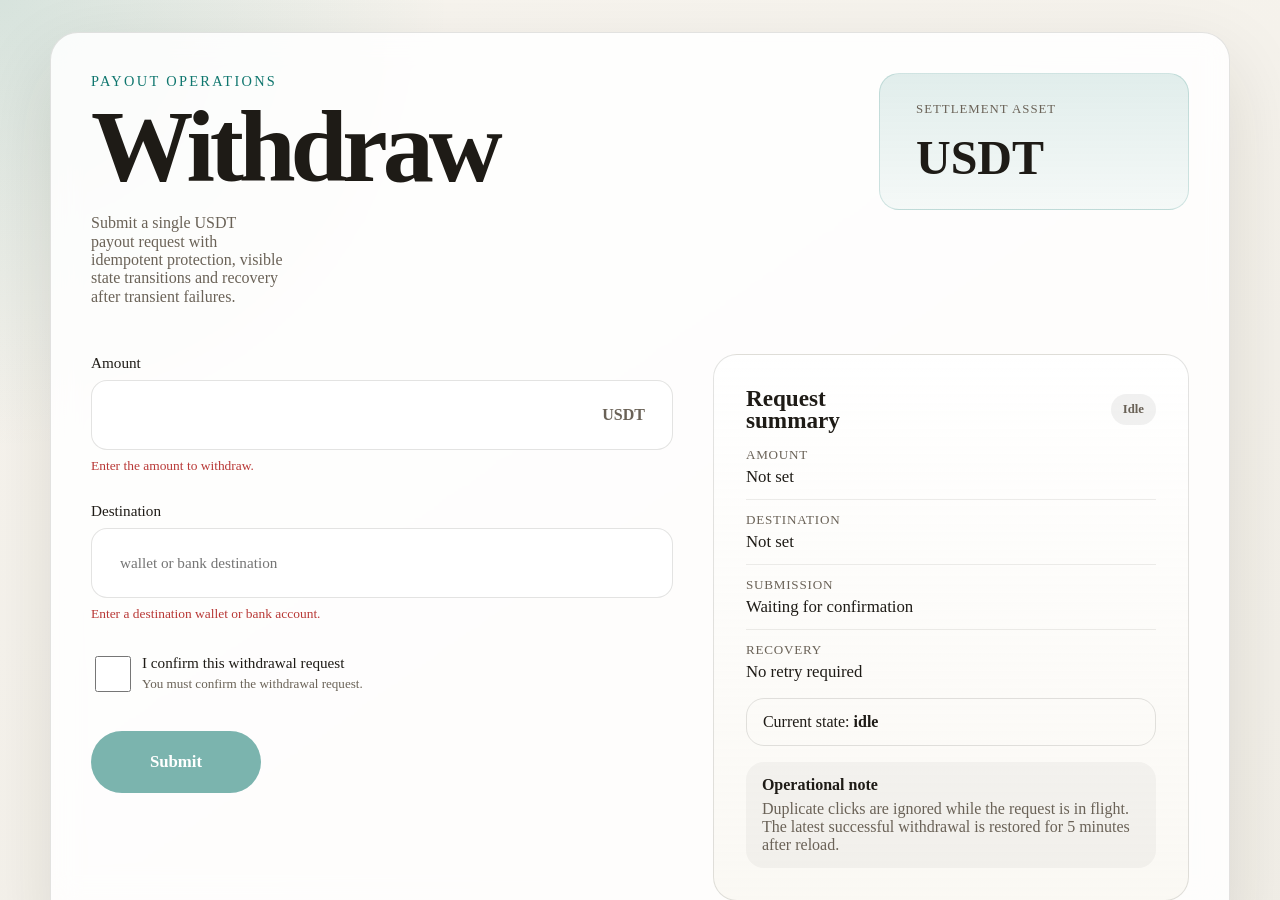
Test: Withdraw page › shows a readable API error for 409 responses
The image size is (1280, 900).
Type "150" into the number field labelled "Amount USDT". click: (382, 415)
box: left=91, top=380, right=673, bottom=450
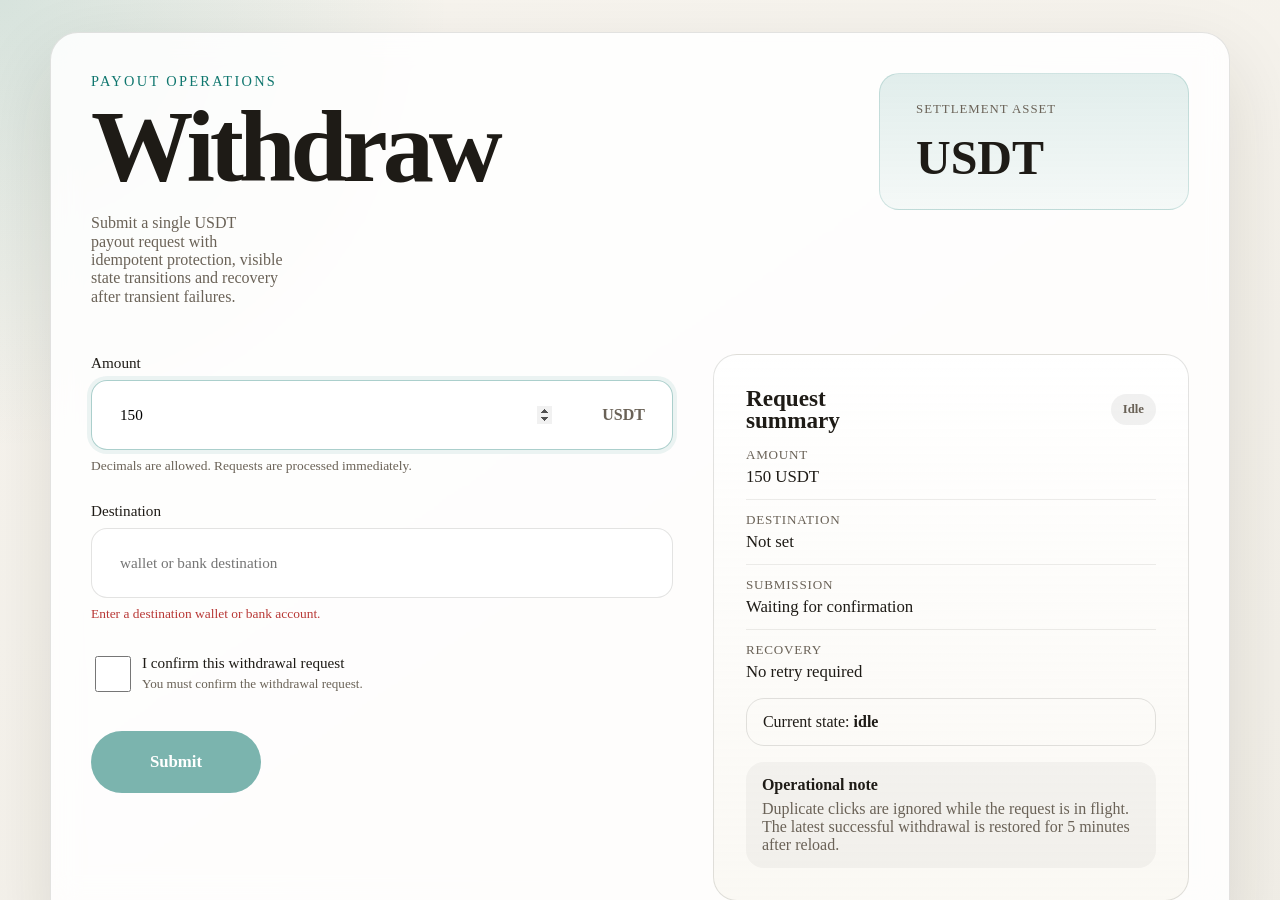
Type "0xabc123" into the field labelled "Destination". click: (382, 563)
box: left=91, top=528, right=673, bottom=598
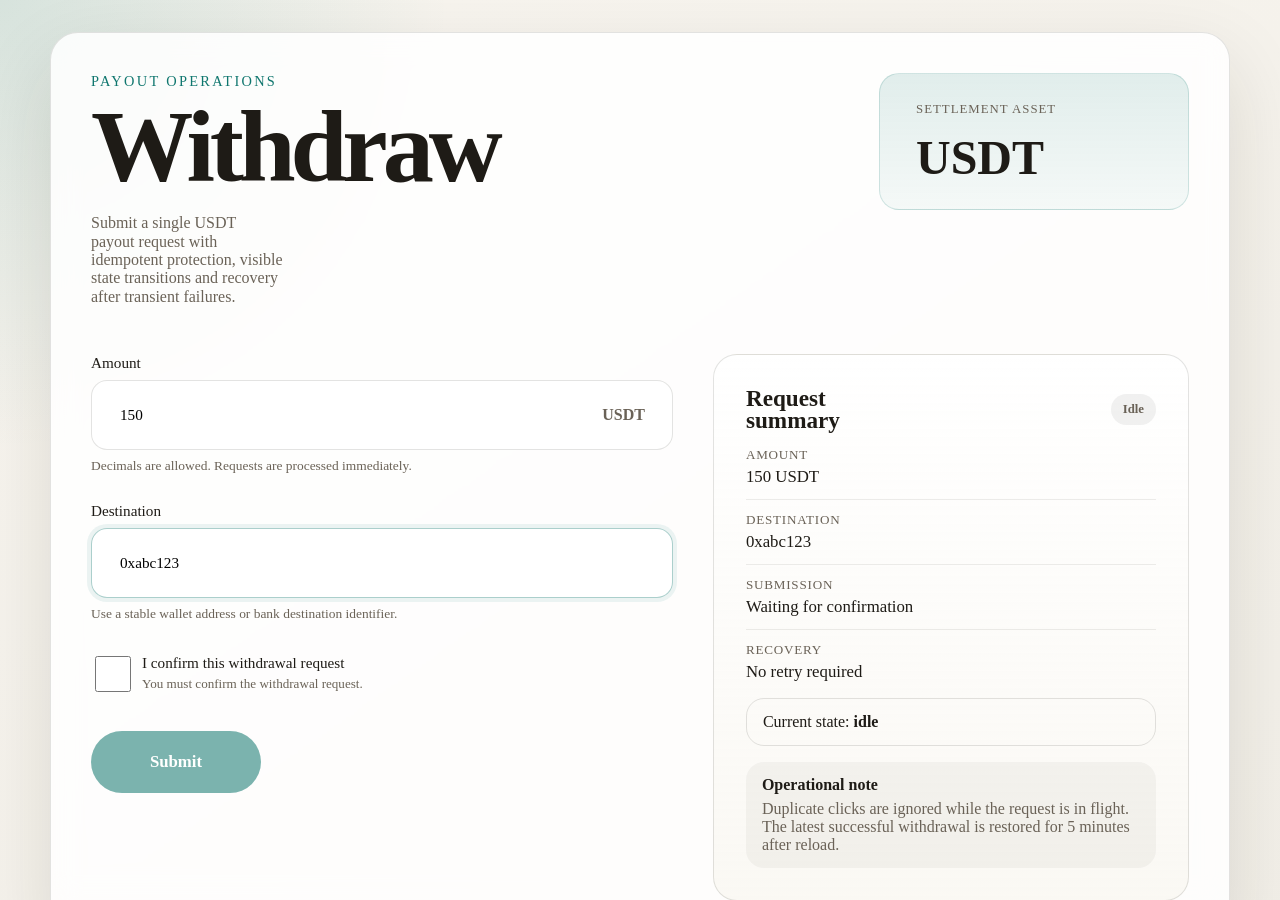
Click the checkbox labelled "I confirm". click: (113, 674)
box: left=95, top=656, right=131, bottom=692
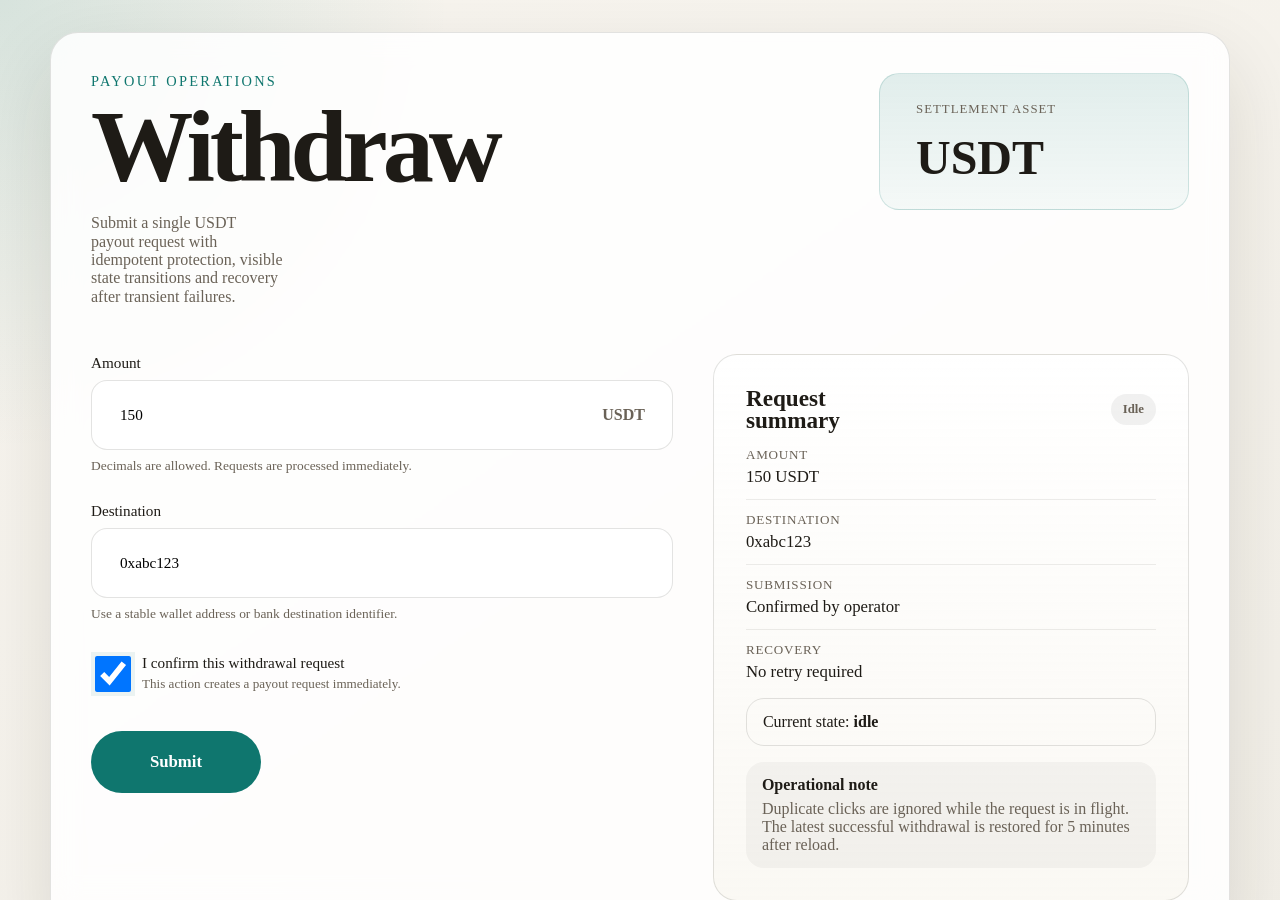
Replace the text in the field labelled "Destination" with "conflict-wallet". click: (382, 563)
box: left=91, top=528, right=673, bottom=598
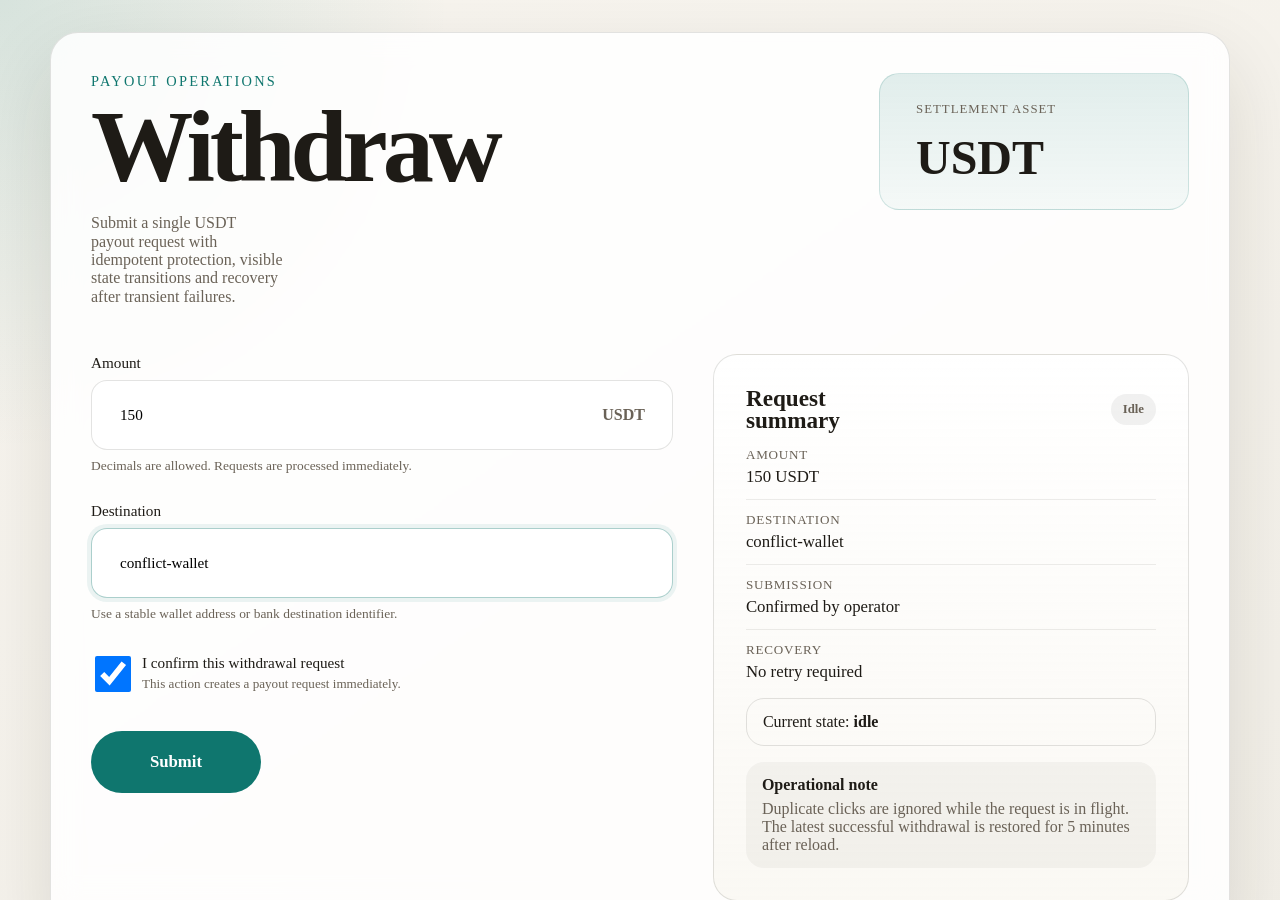
Click the button "Submit". click: (176, 762)
box: left=91, top=731, right=261, bottom=793
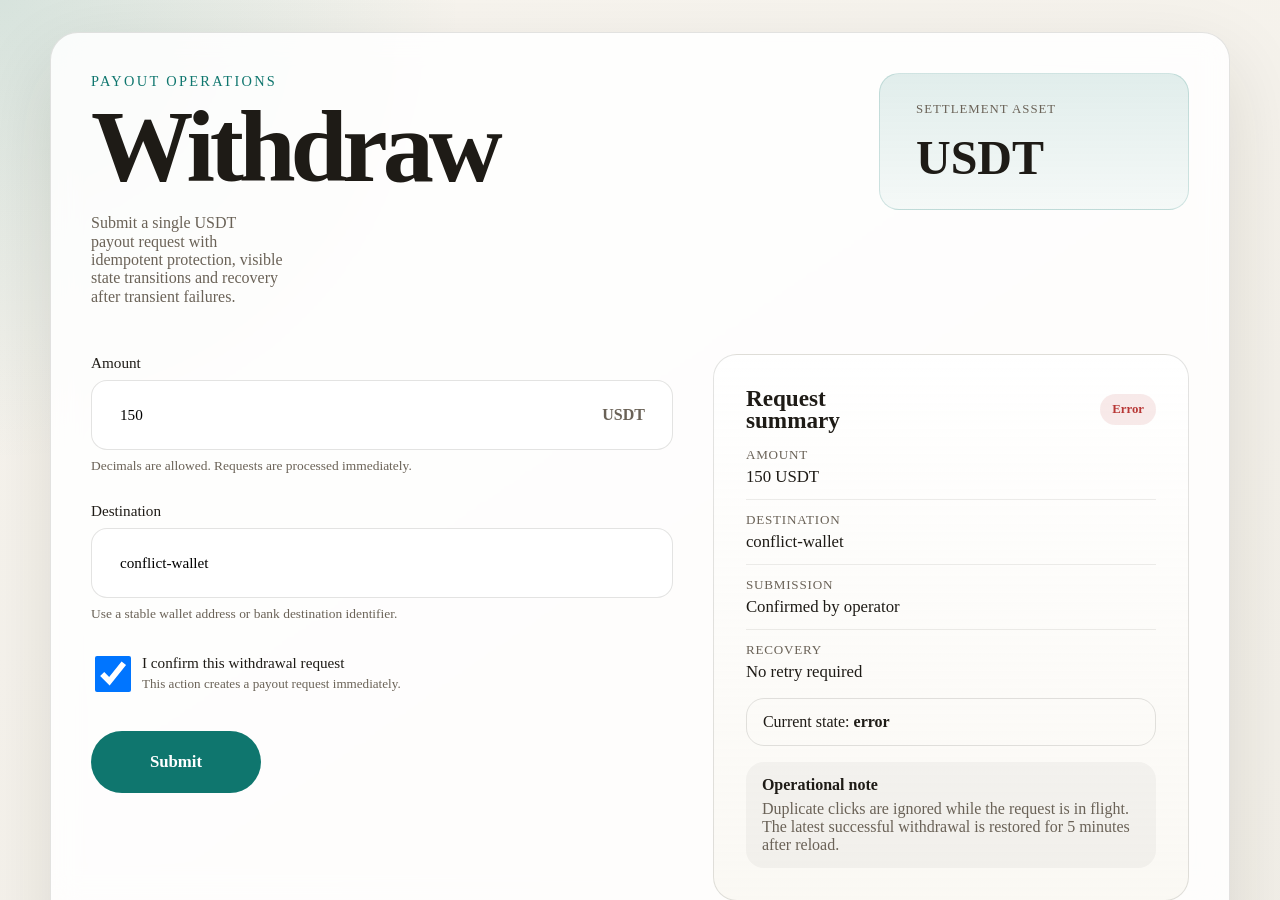
Check: the text "Current state: error" is shown, box left=746, top=698, right=1156, bottom=746
